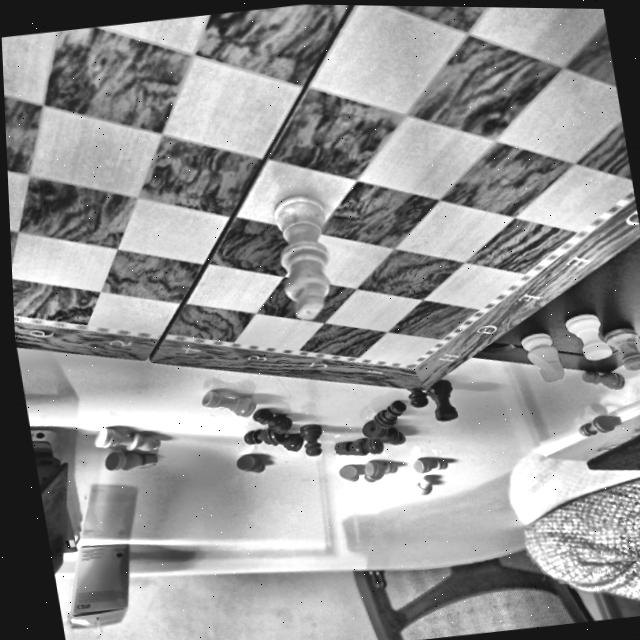white-king: (252, 191, 358, 325)
